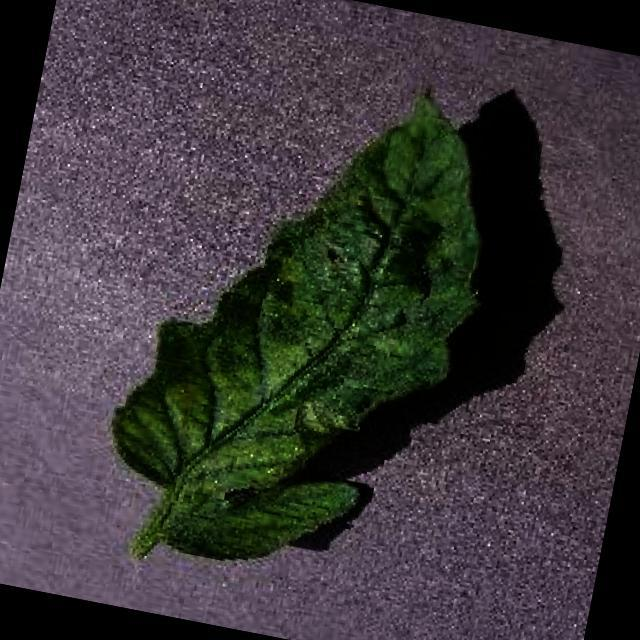Tomato mosaic virus leaf: (90, 43, 516, 599)
